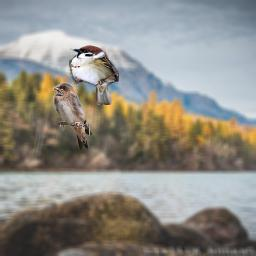Sparrow: (69, 45, 119, 105)
Swallow: (53, 82, 93, 149)
